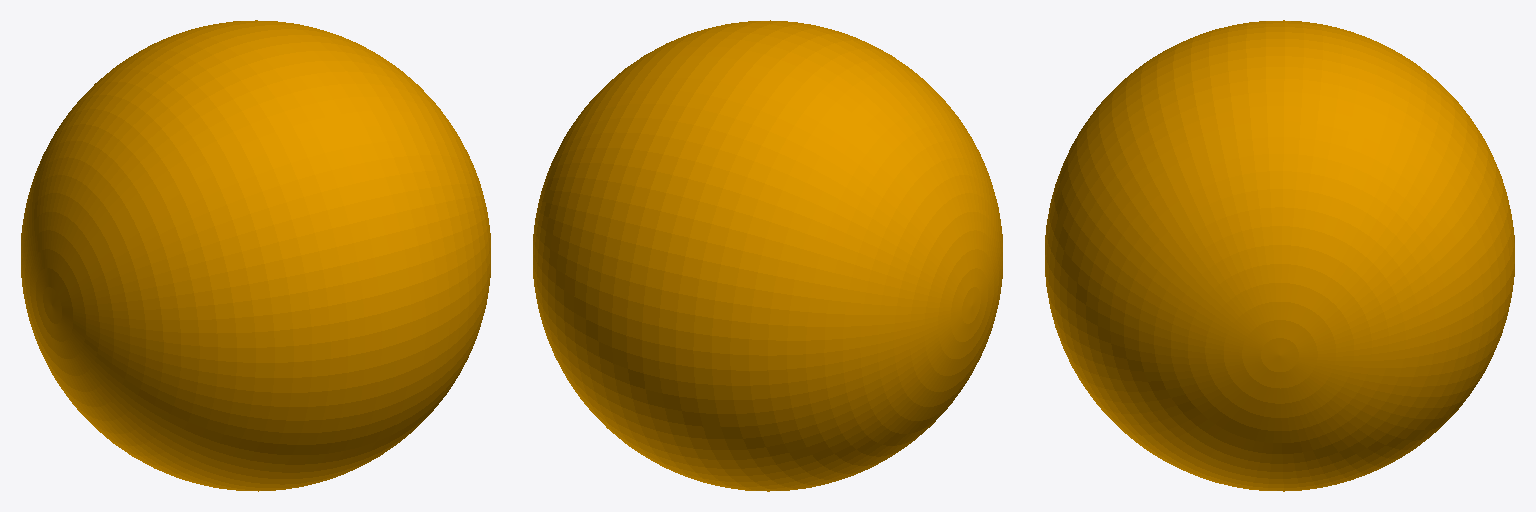
URDF robot description (simple_ball):
<robot name="simple_ball">
  <link name="ball">
    <inertial>
      <mass value="1.0" />
      <!-- center of mass (com) is defined w.r.t. link local coordinate system -->
      <!-- give a little y-offset to make the top precess -->
      <origin xyz="0 0 0" rpy="0 0 0"/> 
      <inertia  ixx="1.0" ixy="0.0"  ixz="0.0"  iyy="1.0"  iyz="0.0"  izz="1.0" />
    </inertial>

    <visual>
      <!-- visual origin is defined w.r.t. link local coordinate system -->
      <origin xyz="0 0 0" rpy="0 0 0" />
      <geometry>
        <mesh filename="./ball.obj" scale="0.001 0.001 0.001" />
      </geometry>
    </visual>

    <collision>
      <!-- collision origin is defined w.r.t. link local coordinate system -->
      <origin xyz="0 0 0" rpy="0 0 0" />
      <geometry>
        <mesh filename="./ball.obj" scale="0.001 0.001 0.001" />
      </geometry>
    </collision>
    
  </link>
</robot>

--- Facts derived from the render (not from the file) ---
3 views of the same robot in one strip: view 1: azimuth 30°, elevation 25°; view 2: azimuth 150°, elevation 25°; view 3: azimuth 270°, elevation 25° (orthographic).
Model simple_ball with 1 links and 0 joints (none), rooted at ball, posed every joint at zero.
Visible links, largest first — view 1: ball; view 2: ball; view 3: ball.
Boxes of the visible links, x1,y1,x2,y2 form: ball: (21,20,490,491); ball: (533,20,1002,491); ball: (1045,20,1514,491).
Bounding box of the posed robot: 0.1885 × 0.1883 × 0.1883 m (x, y, z).
1 mesh visuals loaded from 1 distinct referenced files (1 OBJ).